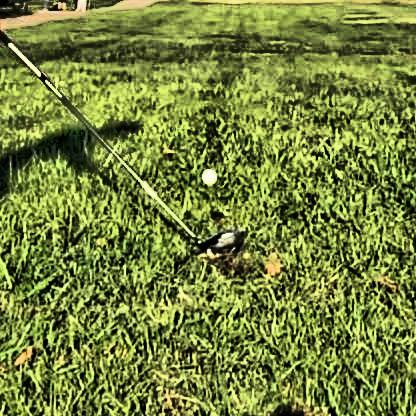golfball: (198, 163, 215, 182)
